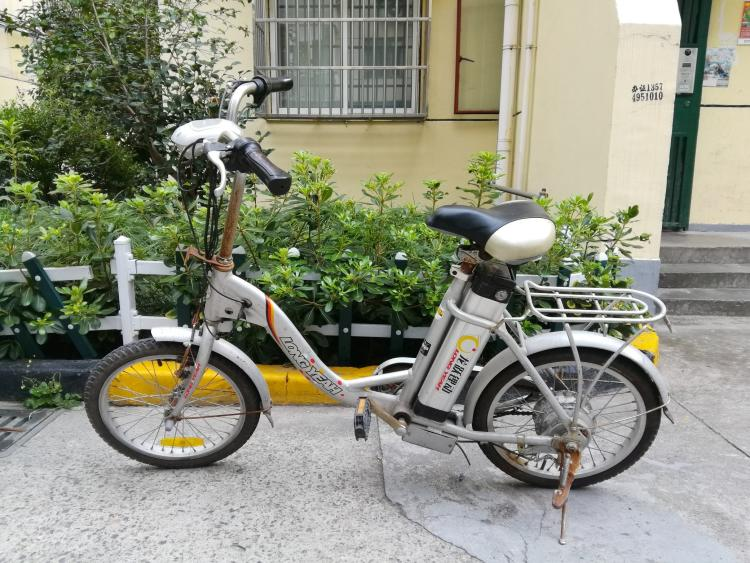电动车: (57, 64, 690, 537)
